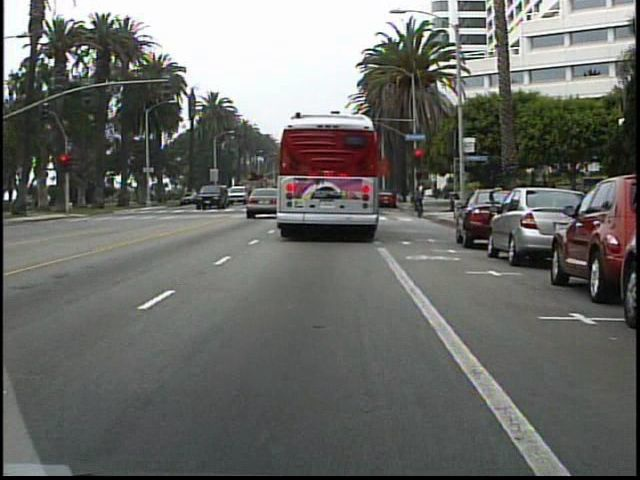person: (407, 181, 427, 216)
